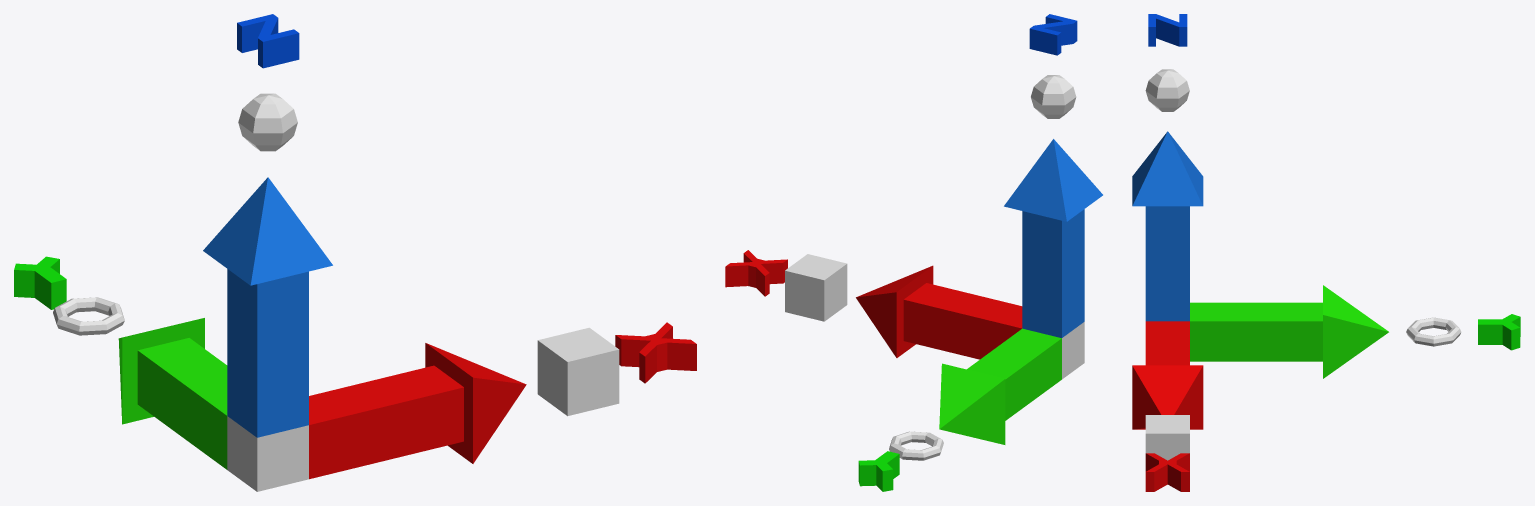
Rendered from CoolArrowHelpsObject.gltf.
The picture shows the model from 3 angles, left to right: view 1: azimuth 30°, elevation 25°; view 2: azimuth 150°, elevation 25°; view 3: azimuth 270°, elevation 25°; orthographic projection. The views are drawn at different scales.
Visible parts, largest first — view 1: Стрелочки, Куб, x, Сфера, z, y, Тор; view 2: Стрелочки, Куб, x, Сфера, z, y, Тор; view 3: Стрелочки, Куб, x, Сфера, y, z, Тор.
Boxes of the visible parts, bbox=[...] form: Стрелочки: bbox=[118, 177, 526, 491]; Куб: bbox=[537, 327, 619, 416]; x: bbox=[615, 322, 696, 383]; Сфера: bbox=[238, 93, 297, 151]; z: bbox=[237, 14, 299, 68]; y: bbox=[14, 256, 66, 309]; Тор: bbox=[53, 297, 124, 335]; Стрелочки: bbox=[856, 139, 1102, 444]; Куб: bbox=[785, 254, 847, 321]; x: bbox=[725, 250, 787, 296]; Сфера: bbox=[1031, 75, 1076, 118]; z: bbox=[1029, 14, 1077, 55]; y: bbox=[858, 451, 899, 491]; Тор: bbox=[889, 431, 943, 460]; Стрелочки: bbox=[1132, 131, 1388, 429]; Куб: bbox=[1145, 415, 1189, 460]; x: bbox=[1145, 453, 1189, 491]; Сфера: bbox=[1145, 69, 1189, 111]; y: bbox=[1478, 314, 1520, 350]; z: bbox=[1148, 14, 1187, 46]; Тор: bbox=[1406, 317, 1461, 346].
Bounding box in the file's own units: 17.6 × 17.1 × 17.52.
